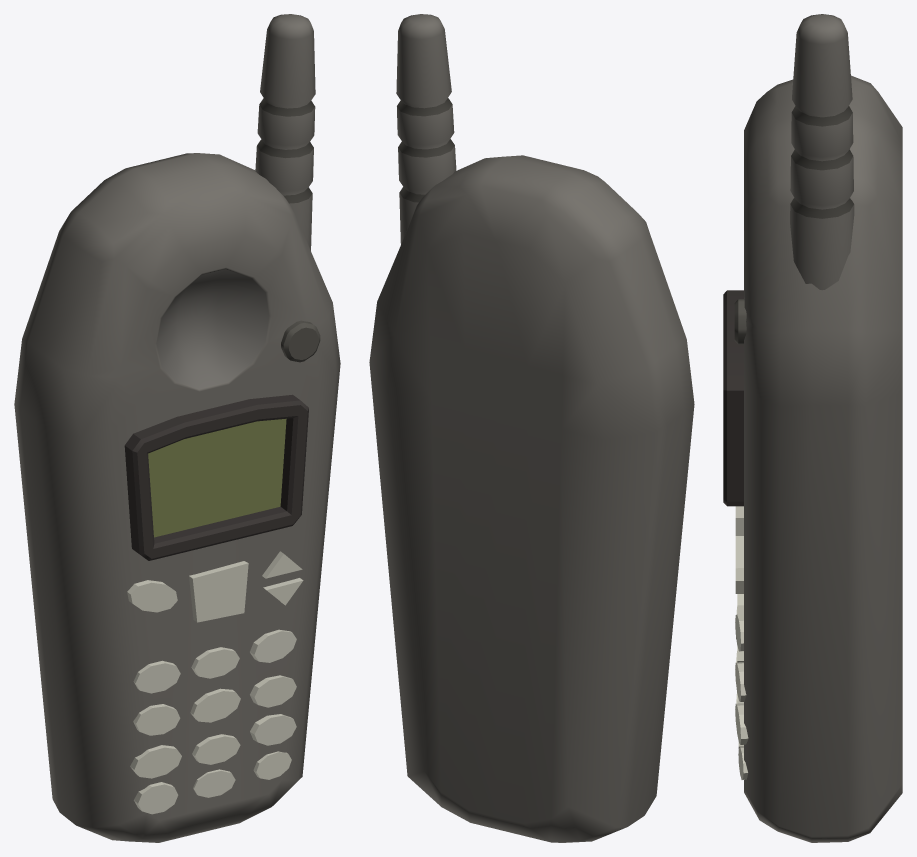
File: PhoneBig.fbx
The picture shows the model from 3 angles, left to right: view 1: azimuth 30°, elevation 25°; view 2: azimuth 150°, elevation 25°; view 3: azimuth 270°, elevation 25°; orthographic projection. The views are drawn at different scales.
Visible parts, largest first — view 1: Phone1; view 2: Phone1; view 3: Phone1.
Boxes of the visible parts, <box> form: Phone1: <box>14,14,340,842</box>; Phone1: <box>369,14,694,842</box>; Phone1: <box>723,14,902,842</box>.
Size of the model in its own units: 86.28 by 219 by 41.71.
